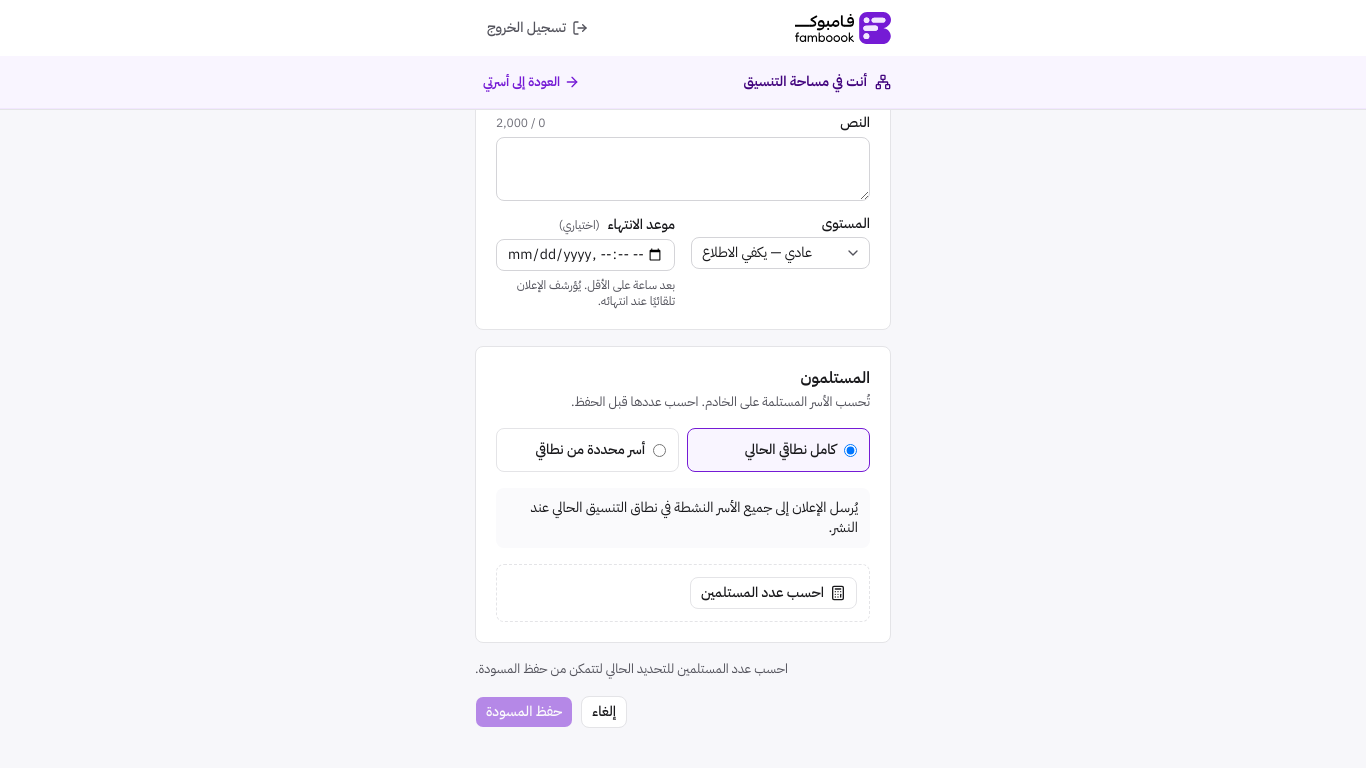
Scenario: composing a coordinator draft › explains a scope revoked meanwhile, re-reads /family/me, and keeps the Family context
This screenshot has width=1366, height=768.
(page scrolled)
Click the button "احسب عدد المستلمين".
click(774, 593)  # box 690,577 -> 857,609
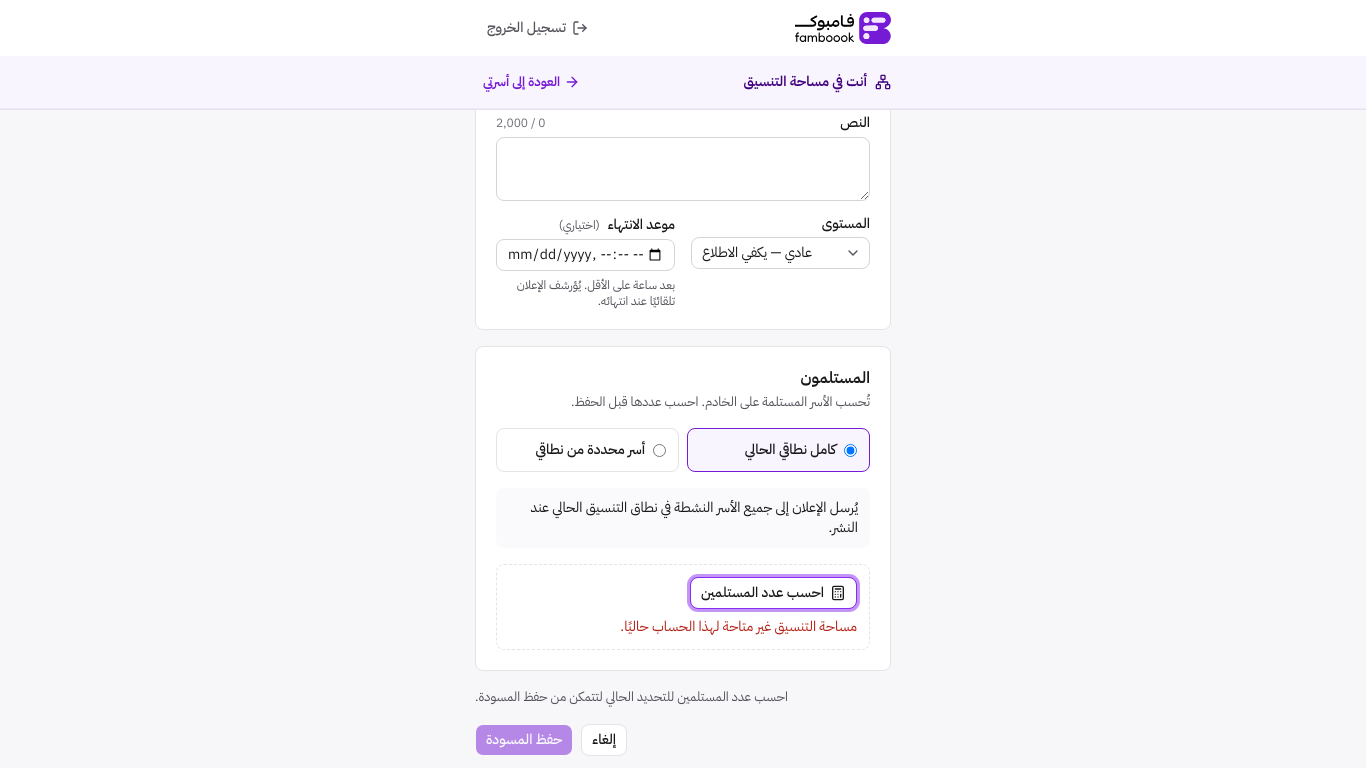
Result: the text "مساحة التنسيق غير متاحة لهذا الحساب حاليًا." is shown at 620,616 -> 857,637
